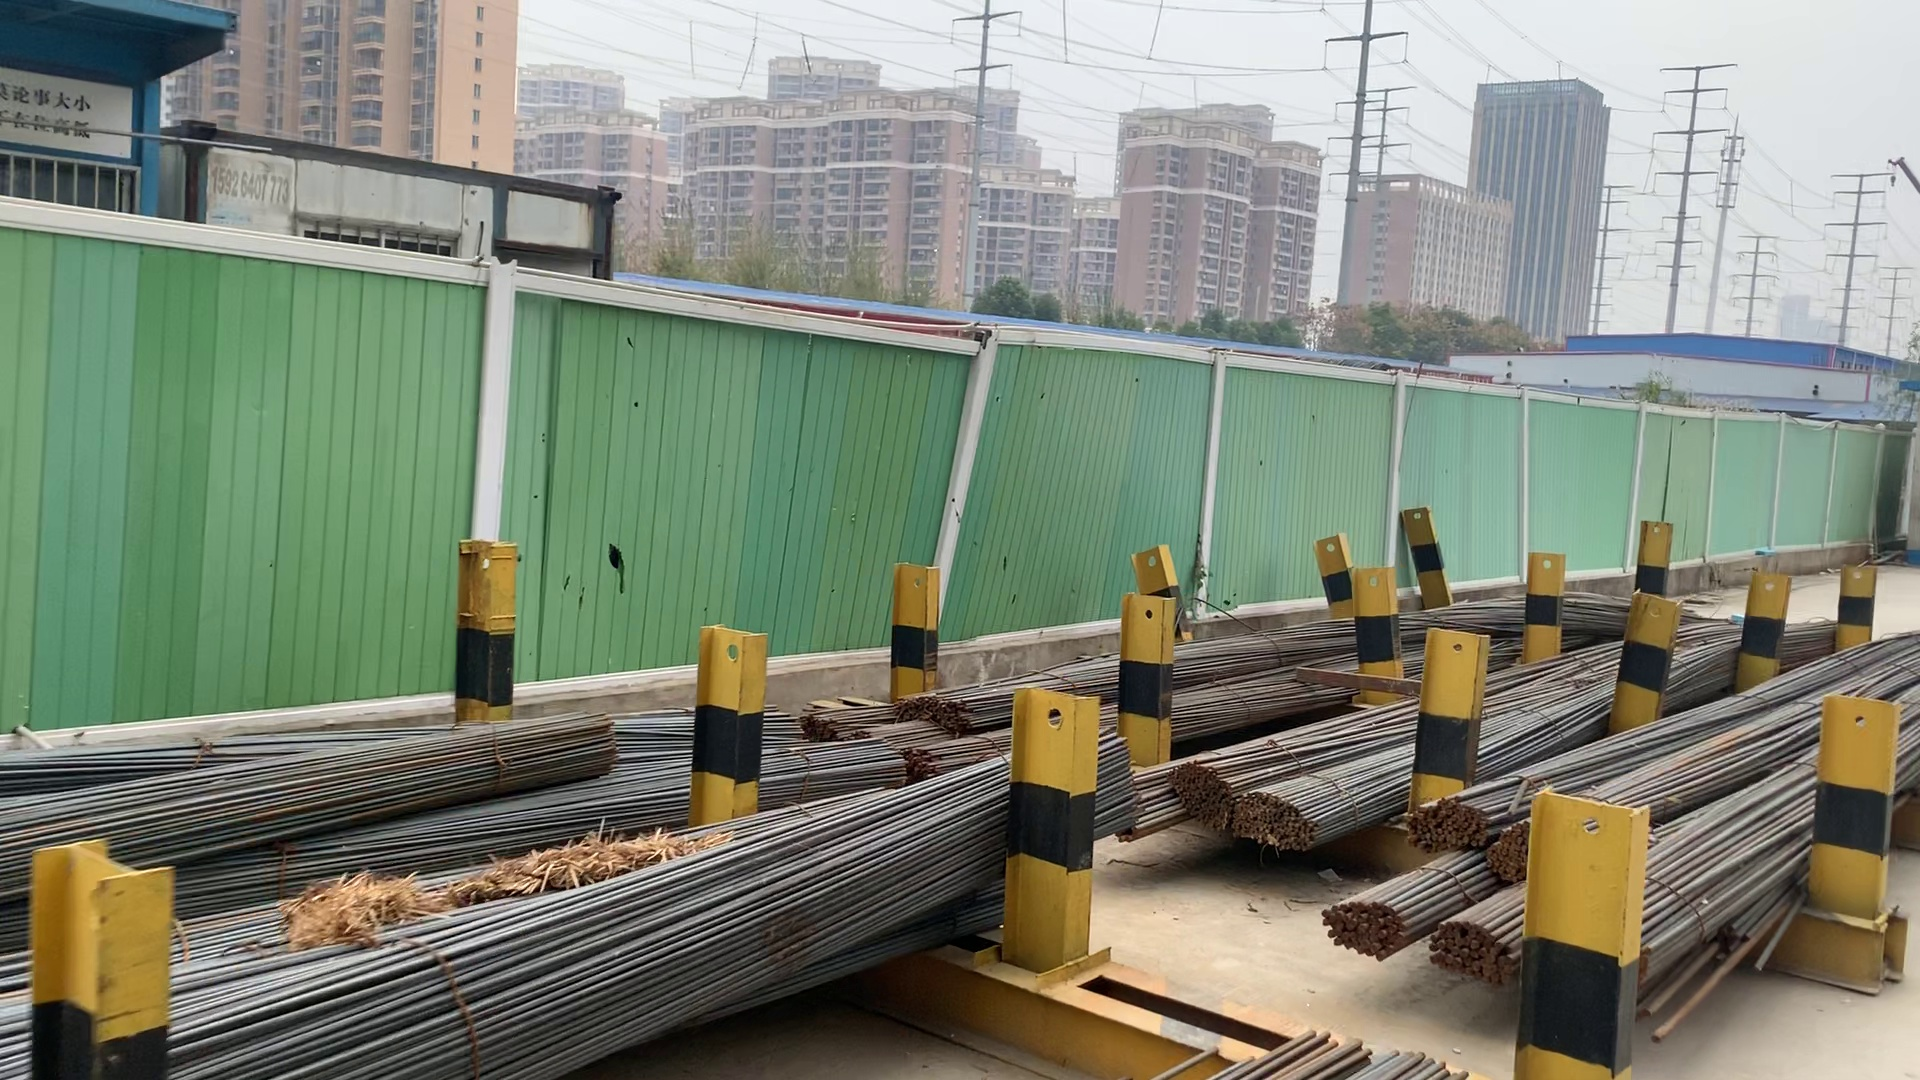rebar: (1424, 926, 1516, 988), (1317, 899, 1402, 964), (1230, 791, 1317, 853), (1396, 799, 1487, 855), (1168, 760, 1230, 833), (906, 684, 967, 729), (1491, 823, 1534, 884), (909, 748, 945, 775)
